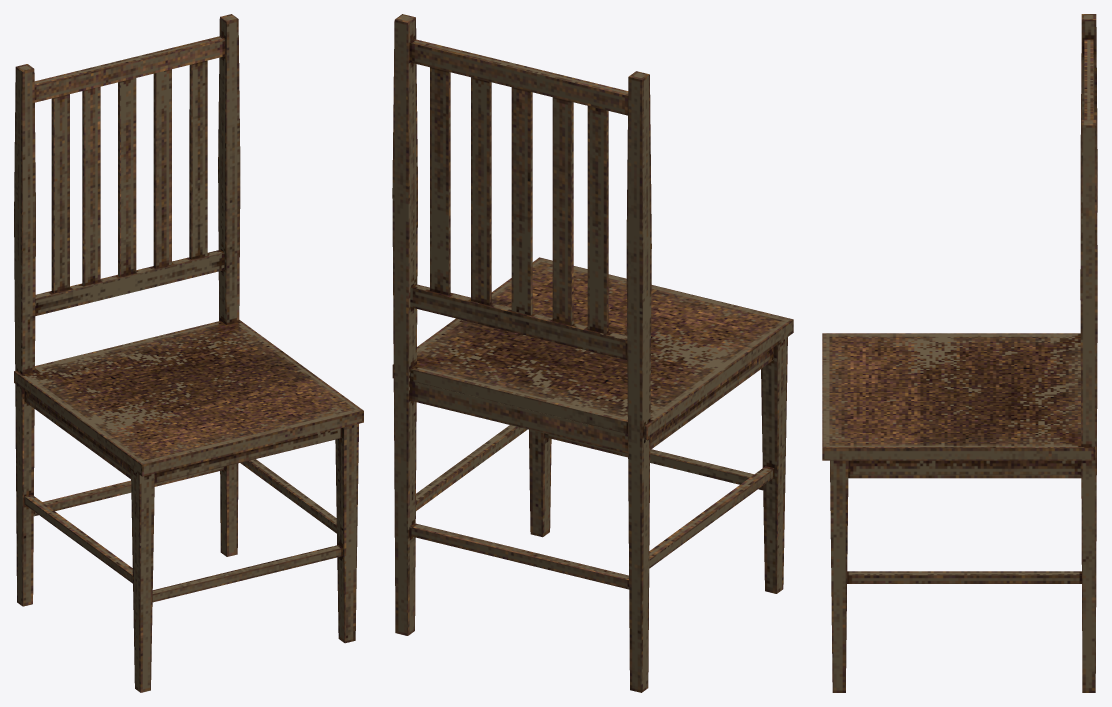
The model's file is Chair01.fbx.
3 views of the same model, side by side, from view 1: azimuth 30°, elevation 25°; view 2: azimuth 150°, elevation 25°; view 3: azimuth 270°, elevation 25° (orthographic). The views are drawn at different scales.
Parts seen in each view (by area): view 1: Chair001; view 2: Chair001; view 3: Chair001.
Part boxes in pixels (x1=…): Chair001: x1=14, y1=14, x2=363, y2=692; Chair001: x1=392, y1=14, x2=793, y2=692; Chair001: x1=822, y1=14, x2=1097, y2=692.
Size of the model in its own units: 44.12 by 43.46 by 100.
